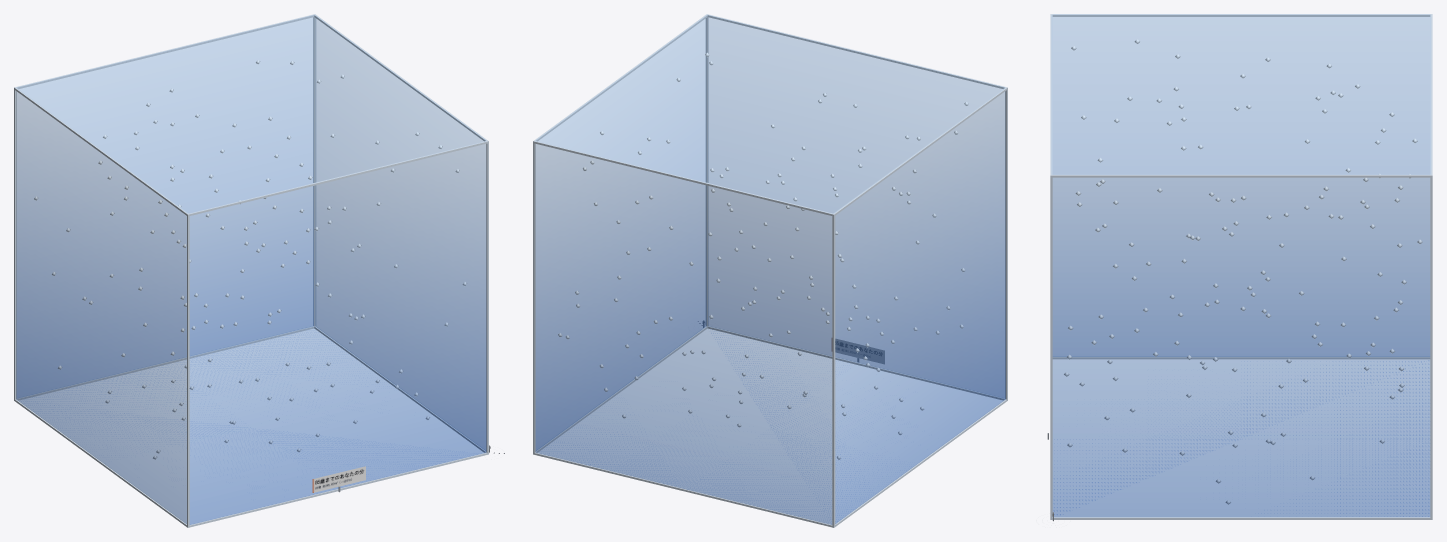
The model's file is cube_life_85.glb.
3 views of the same model, side by side, from view 1: azimuth 30°, elevation 25°; view 2: azimuth 150°, elevation 25°; view 3: azimuth 270°, elevation 25° (orthographic). The views are drawn at different scales.
Visible parts, largest first — view 1: co2, edge, dots, label; view 2: co2, edge, dots, label; view 3: co2, edge, dots.
Boxes of the visible parts, x1,y1,x2,y2 form: co2: (16,15,486,524); edge: (14,14,488,527); dots: (34,60,466,459); label: (312,466,365,492); co2: (535,15,1005,524); edge: (533,14,1007,527); dots: (558,52,968,459); label: (835,339,884,364); co2: (1051,14,1430,516); edge: (1050,14,1432,519); dots: (1064,39,1422,504).
Size of the model in its own units: 71.16 by 67.39 by 70.26.
Materials: 8 (3 with a texture image).
